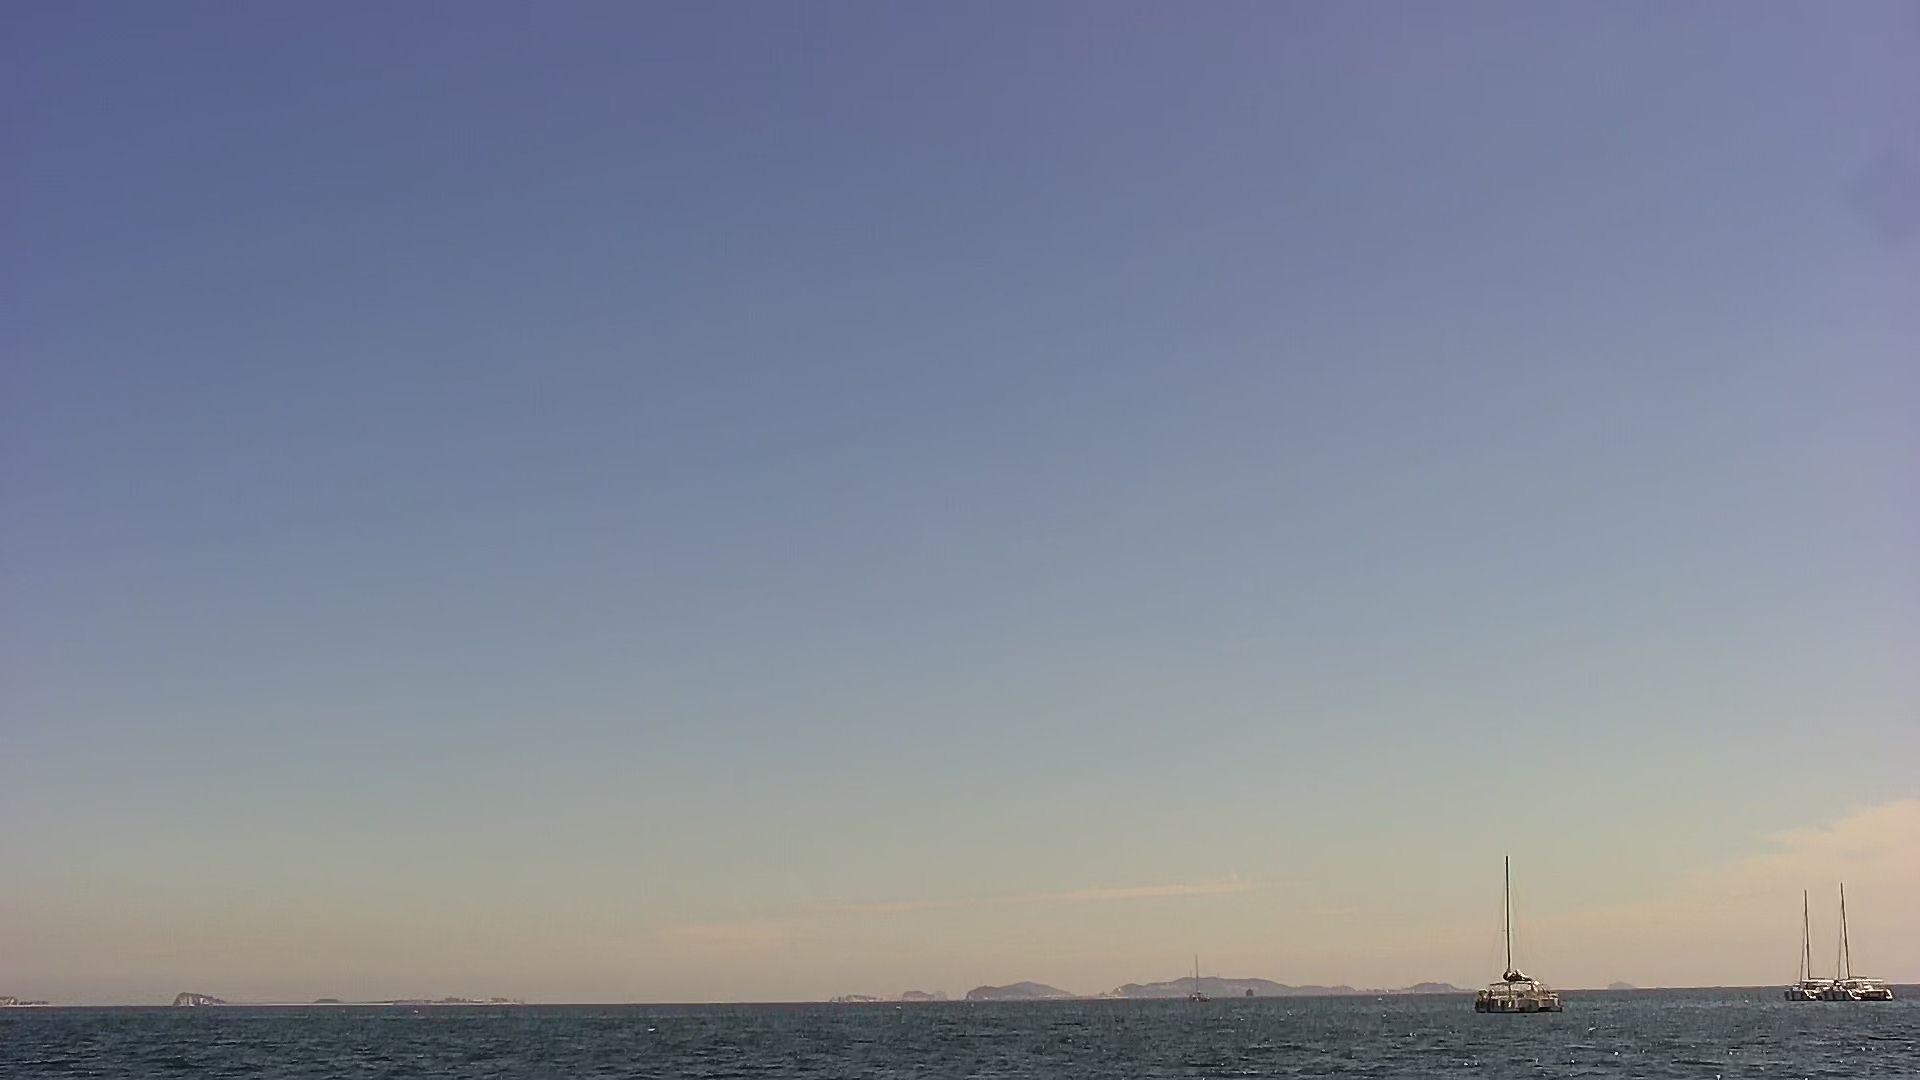boat: (1476, 848, 1577, 1025), (1834, 868, 1903, 1004), (1784, 876, 1840, 1004)
rock: (1106, 975, 1375, 1000), (380, 985, 520, 1009), (971, 982, 1102, 1004), (165, 984, 233, 1013), (1399, 969, 1470, 997), (827, 982, 878, 1006), (1, 989, 61, 1007), (902, 986, 952, 1006), (305, 990, 349, 1009), (1605, 969, 1648, 988)
